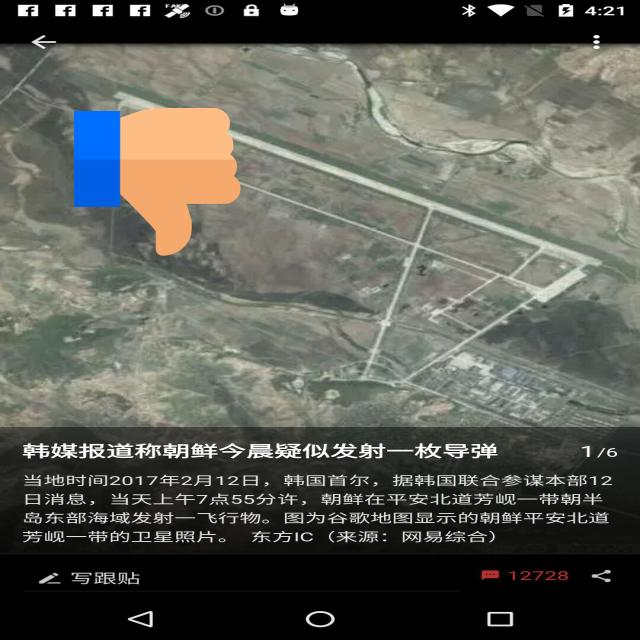obstruction: (74, 104, 241, 260)
